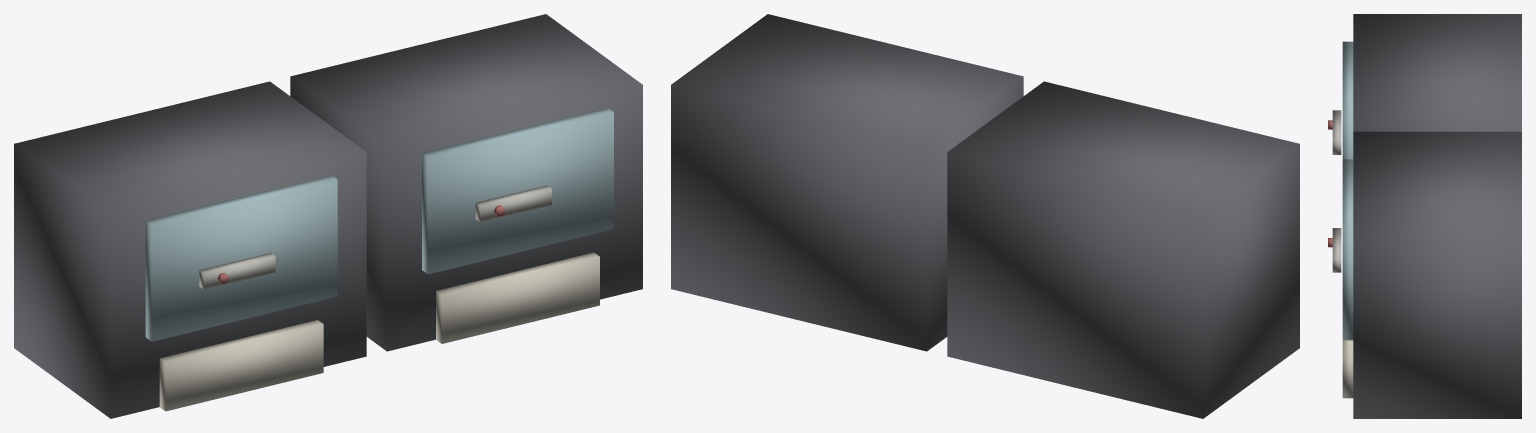
The model's file is flat_monitor__cluster.glb.
3 renders of one model, left to right at view 1: azimuth 30°, elevation 25°; view 2: azimuth 150°, elevation 25°; view 3: azimuth 270°, elevation 25°, orthographic. The views are drawn at different scales.
Parts seen in each view (by area): view 1: world; view 2: world; view 3: world.
Part boxes in pixels (bbox=[...]): world: bbox=[14, 14, 642, 418]; world: bbox=[671, 14, 1299, 418]; world: bbox=[1328, 14, 1521, 418].
Size of the model in its own units: 1.14 by 0.42 by 0.4135.
